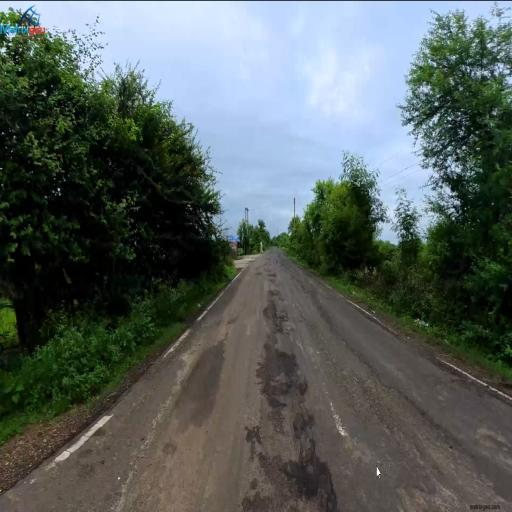longitudinal_crack: (364, 349, 407, 407)
ravelling: (258, 301, 329, 505)
